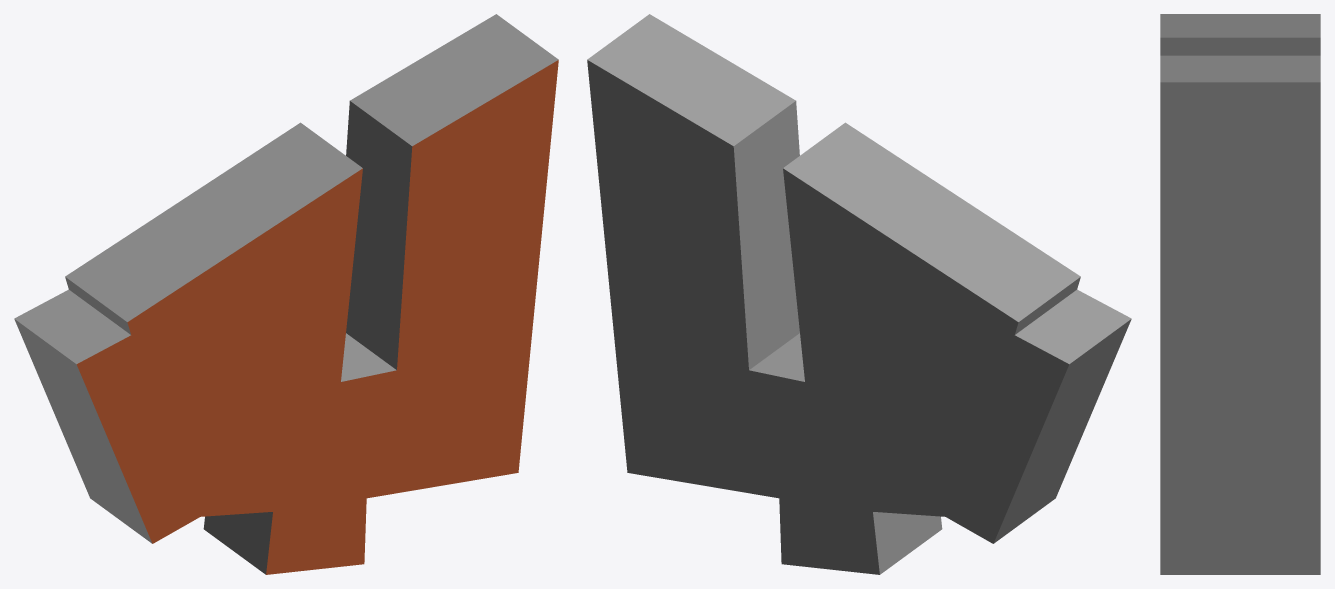
The model's file is construction_1172_assumed_A_Casa_h6m.obj.
3 views of the same model, side by side, from view 1: azimuth 30°, elevation 25°; view 2: azimuth 150°, elevation 25°; view 3: azimuth 270°, elevation 25° (orthographic). The views are drawn at different scales.
Parts seen in each view (by area): view 1: construction_1172_assumed_A_Casa; view 2: construction_1172_assumed_A_Casa; view 3: construction_1172_assumed_A_Casa.
Part boxes in pixels (<box>): construction_1172_assumed_A_Casa: <box>14,14,558,574</box>; construction_1172_assumed_A_Casa: <box>587,14,1131,574</box>; construction_1172_assumed_A_Casa: <box>1160,14,1320,574</box>.
Bounding box in the file's own units: 26.76 × 24.24 × 6.
